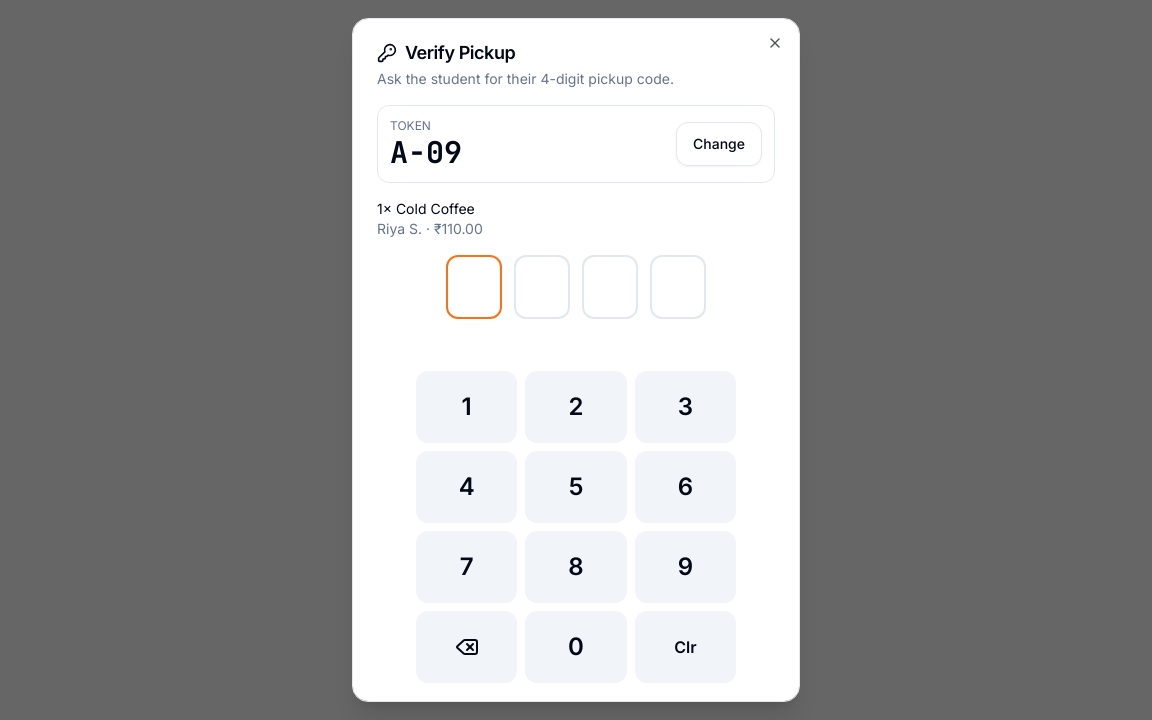
Test: PickupVerifyModal › 423 shows the locked panel with manager override
Click the button "1" at [467, 407], box [416,371,517,443]
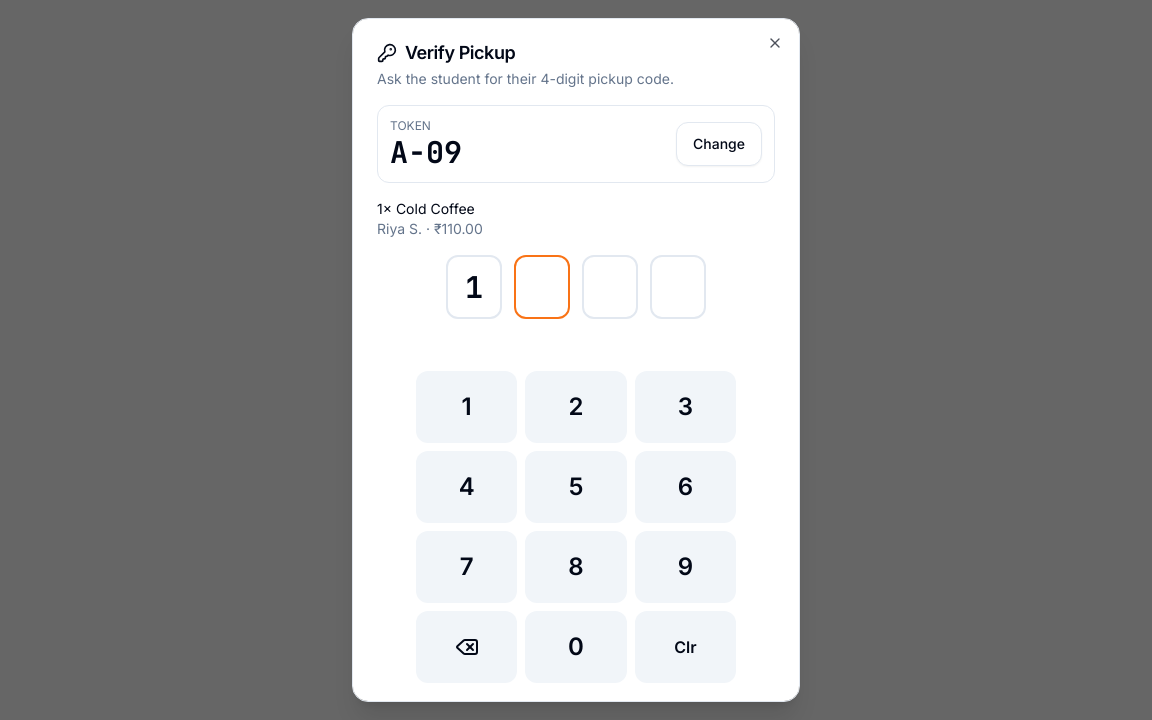
Click the button "1" at [467, 407], box [416,371,517,443]
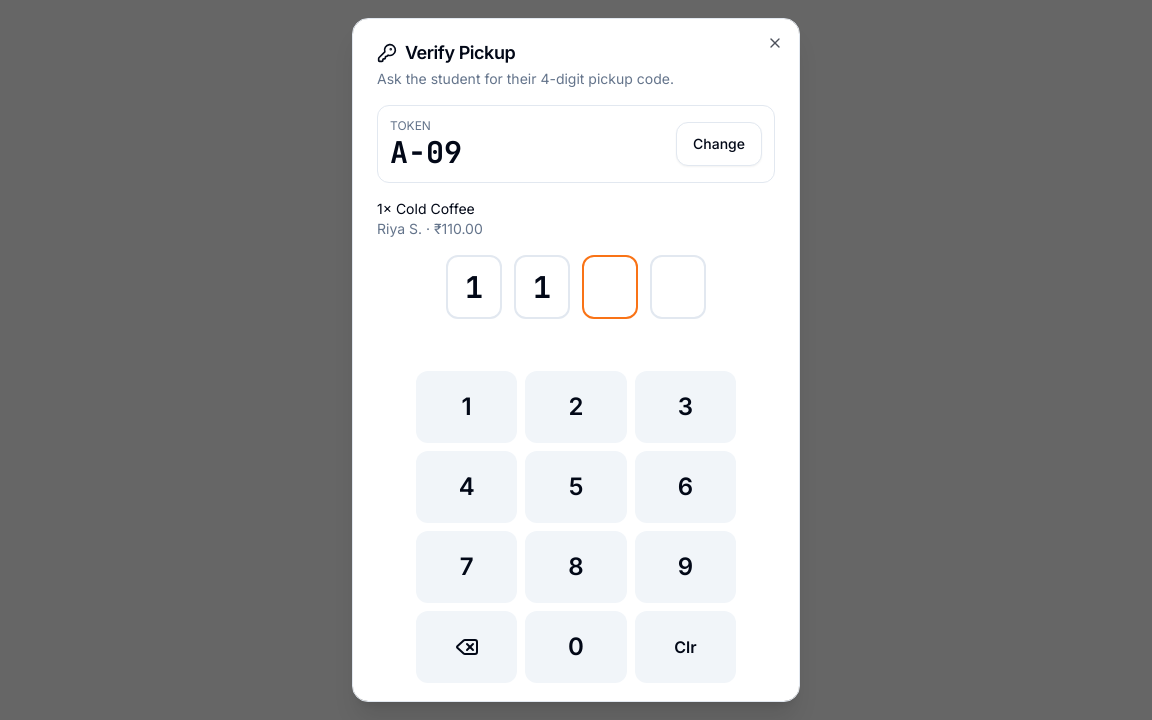
Click the button "1" at [467, 407], box [416,371,517,443]
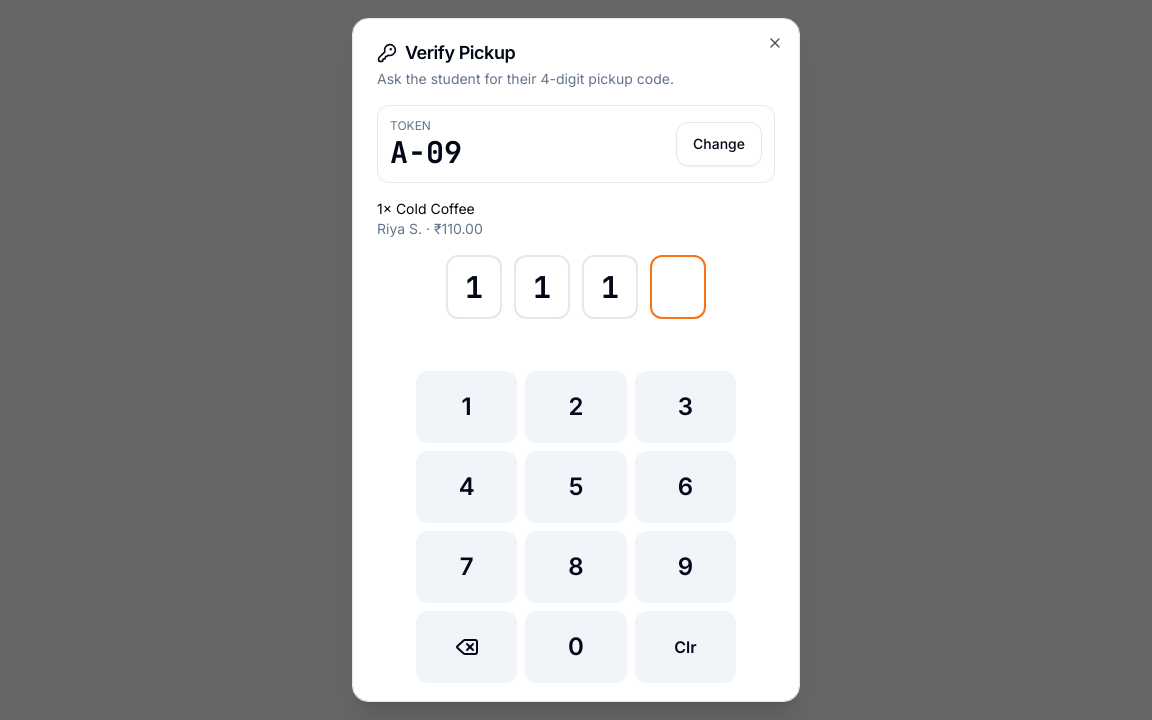
Click the button "1" at [467, 407], box [416,371,517,443]
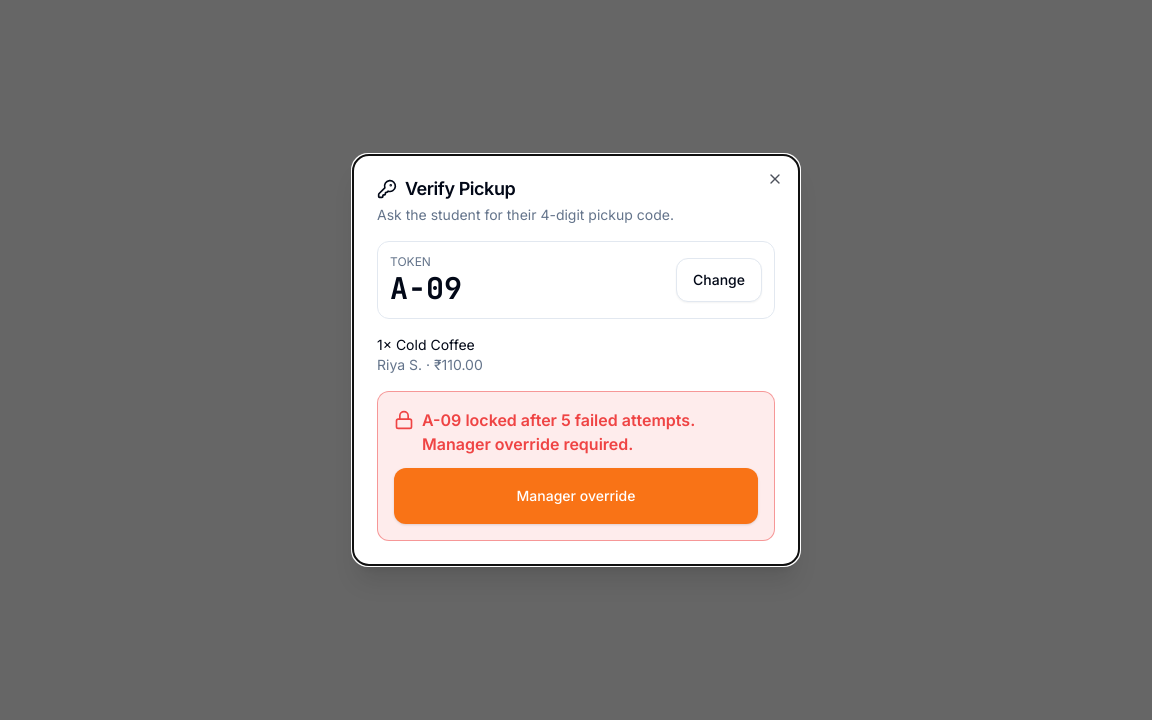
Expected: the text "locked after 5 failed attempts" is shown, [422,410,695,454]
Expected: the button "Manager override" is shown, [394,468,758,524]
